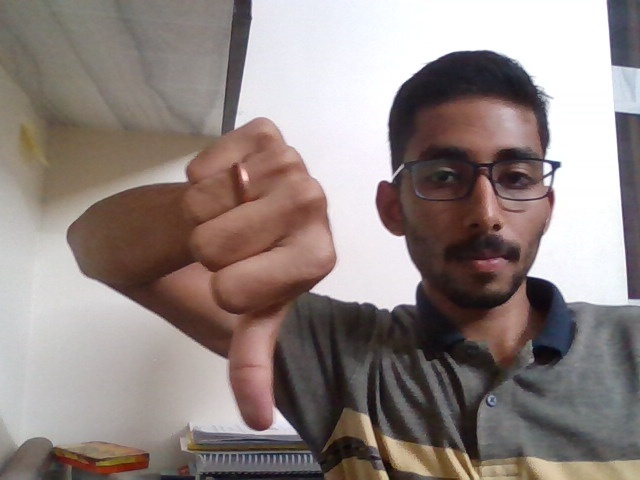No: (169, 99, 355, 449)
